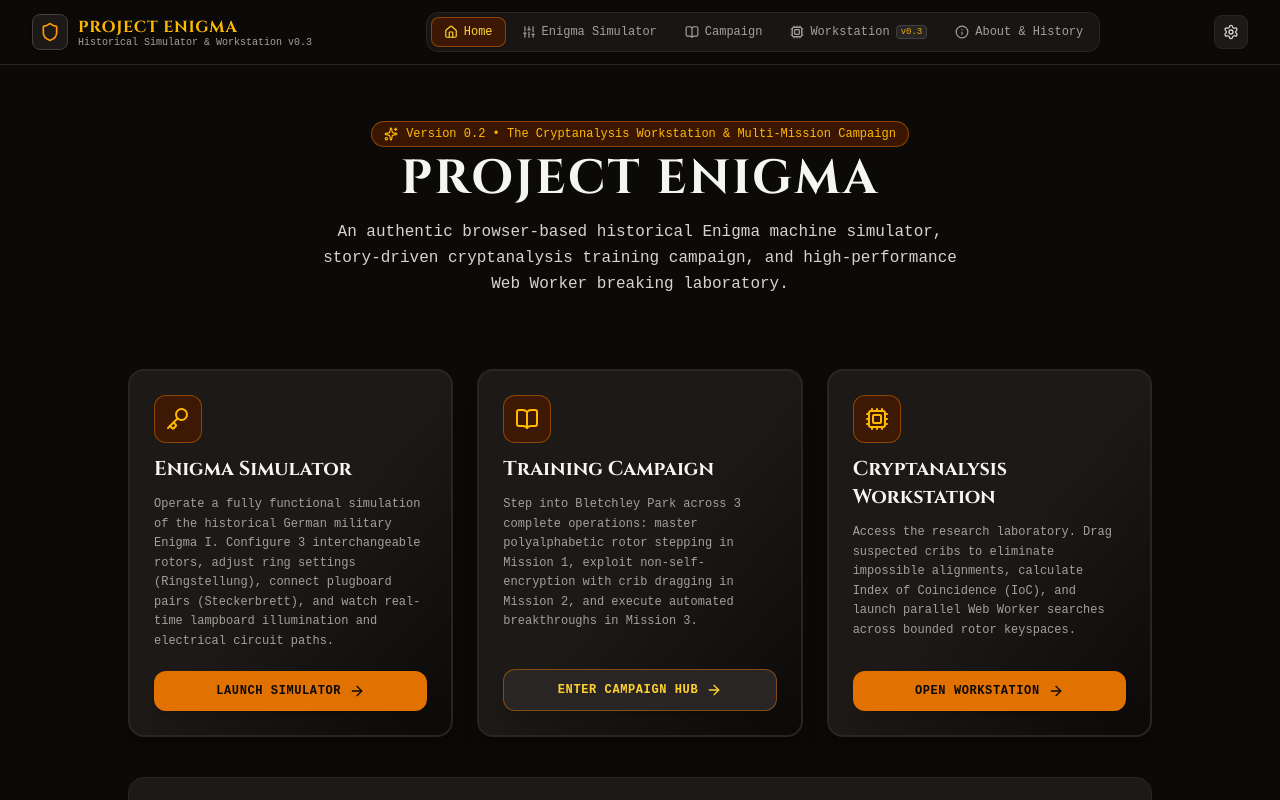
Application Shell & Navigation › switches between tabs
This screenshot has width=1280, height=800.
# Click Enigma Simulator nav button
Step 1. Click the button "Enigma Simulator" → [589, 32], box [510,18,669,46]
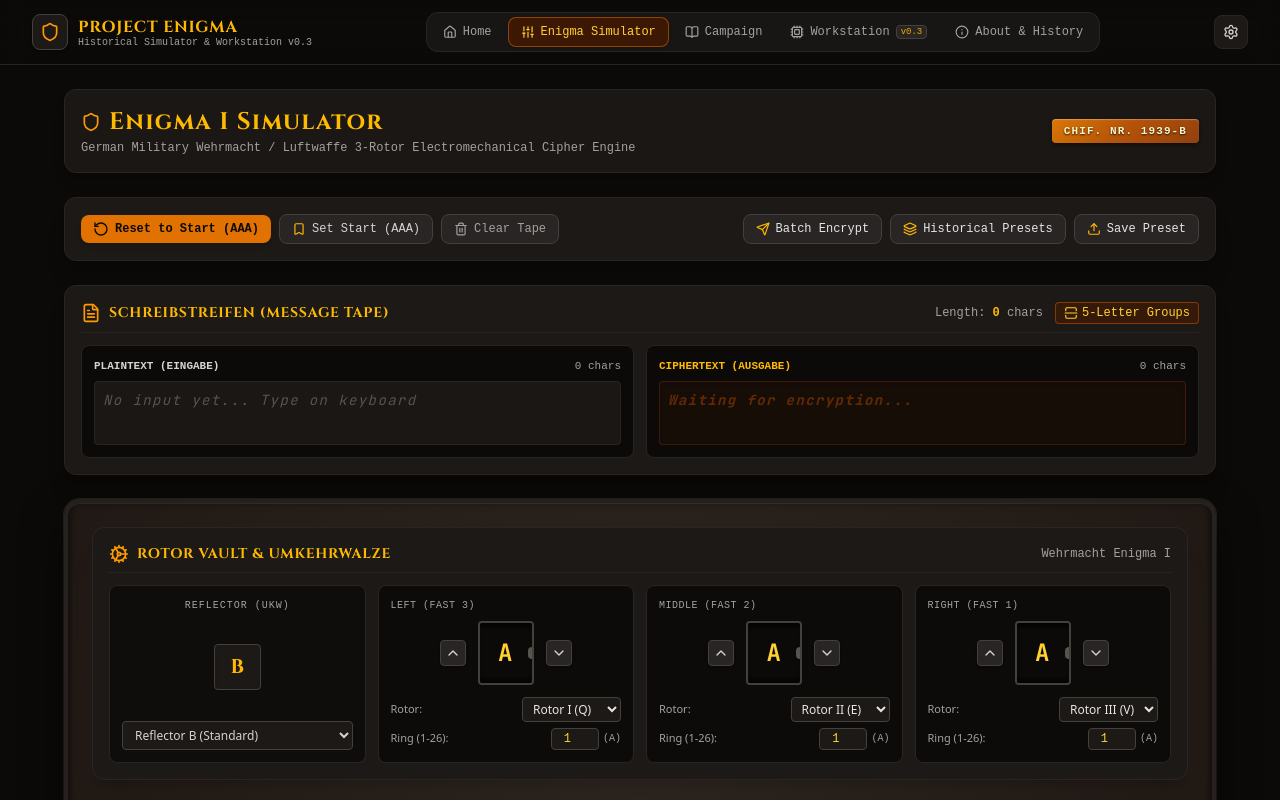
# Click About nav button
Step 2. Click the button "About & History" → [1019, 32], box [943,18,1095,46]
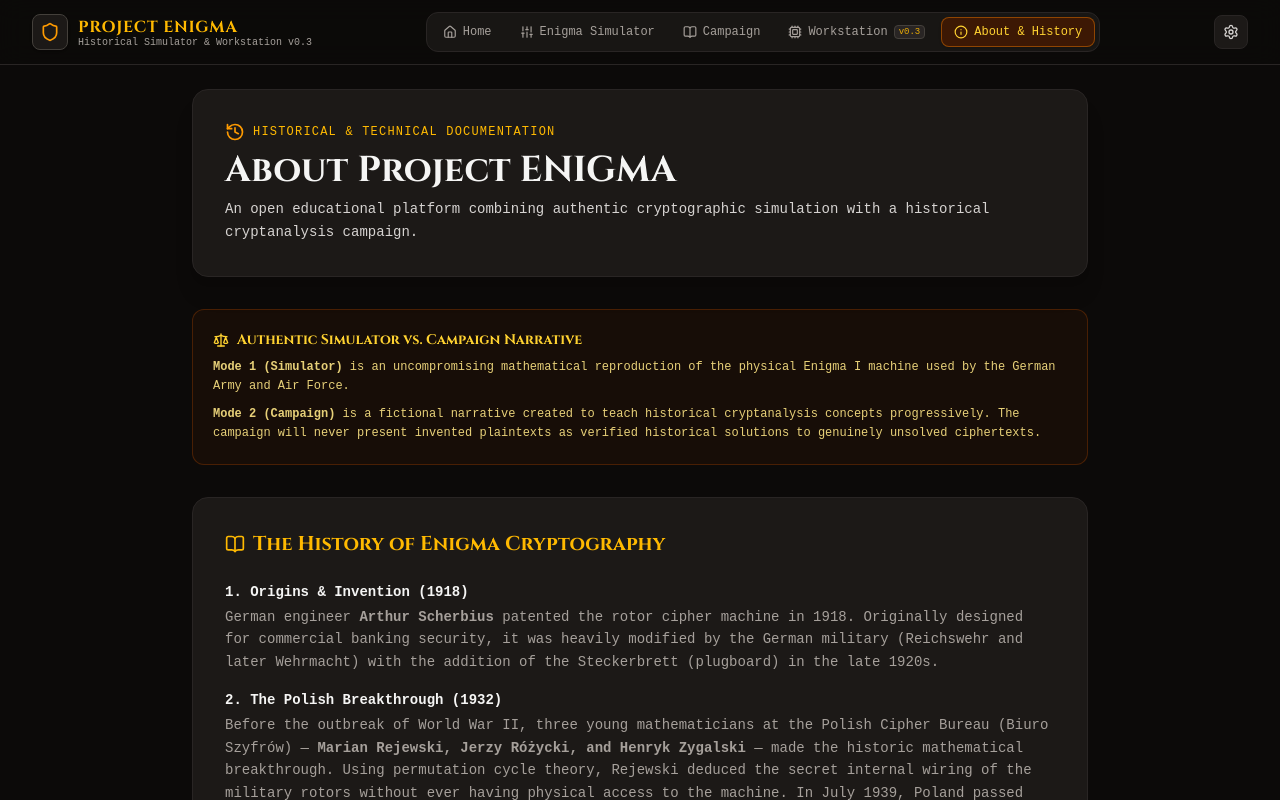
Check: the heading "The History of Enigma Cryptography" is shown, box [225,530,665,556]
